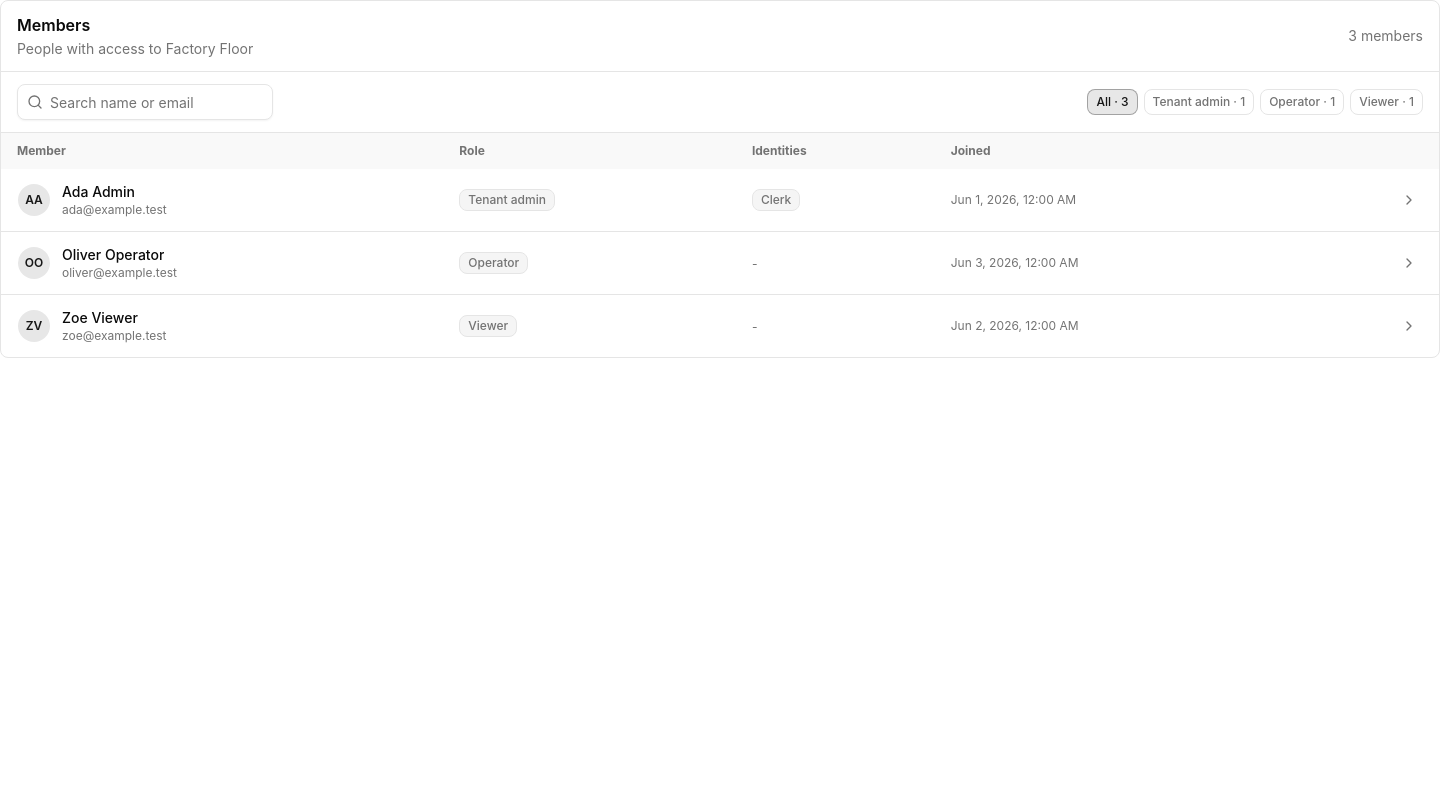
MembersSection › offers a confirmed remove action for ordinary members
The image size is (1440, 810).
Click the button named "Manage Oliver Operator" at (1409, 263), box [1395,249,1423,277]
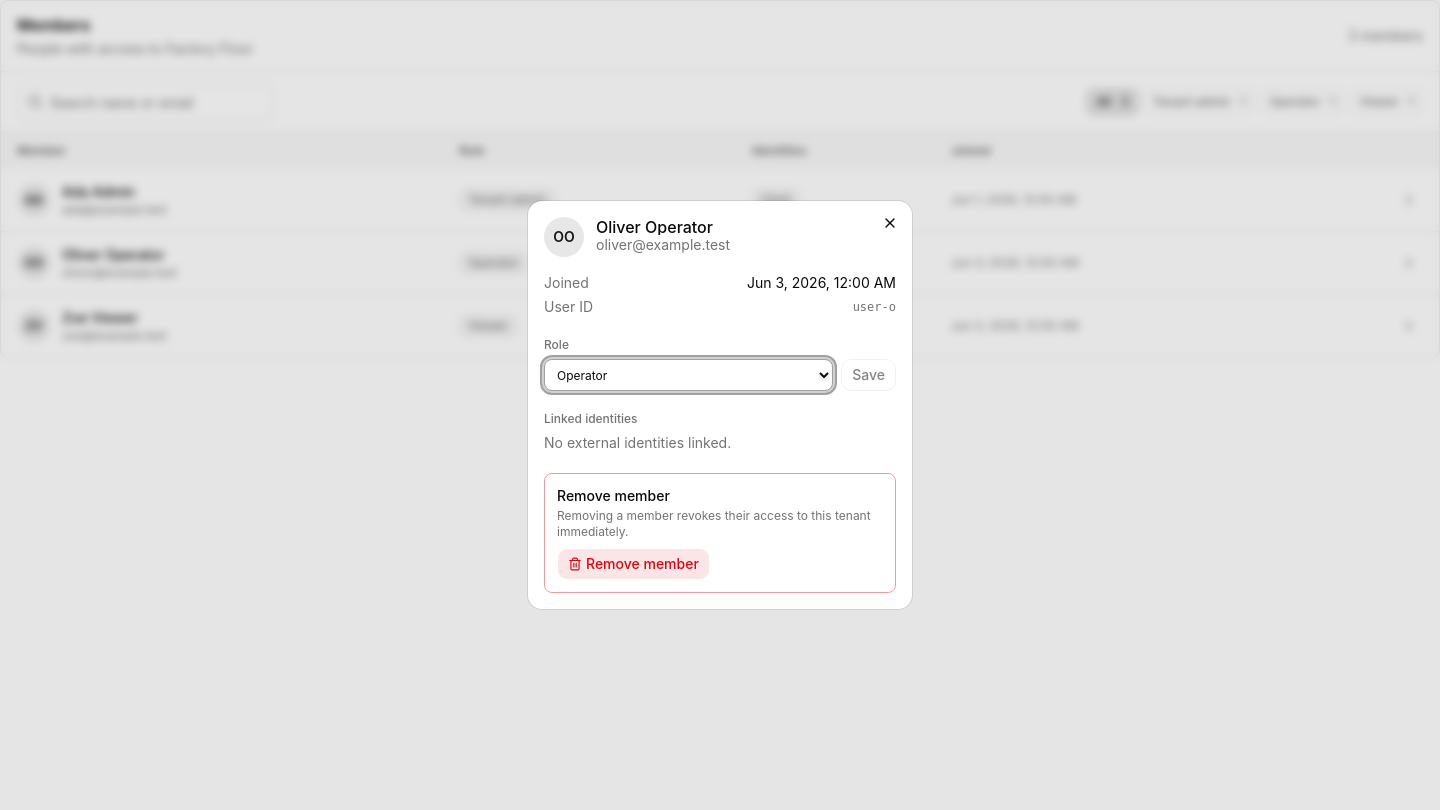
Expected: the button with aria-label "Remove Oliver Operator" is shown
Click the button with aria-label "Remove Oliver Operator" at (633, 564), box [557,548,710,580]
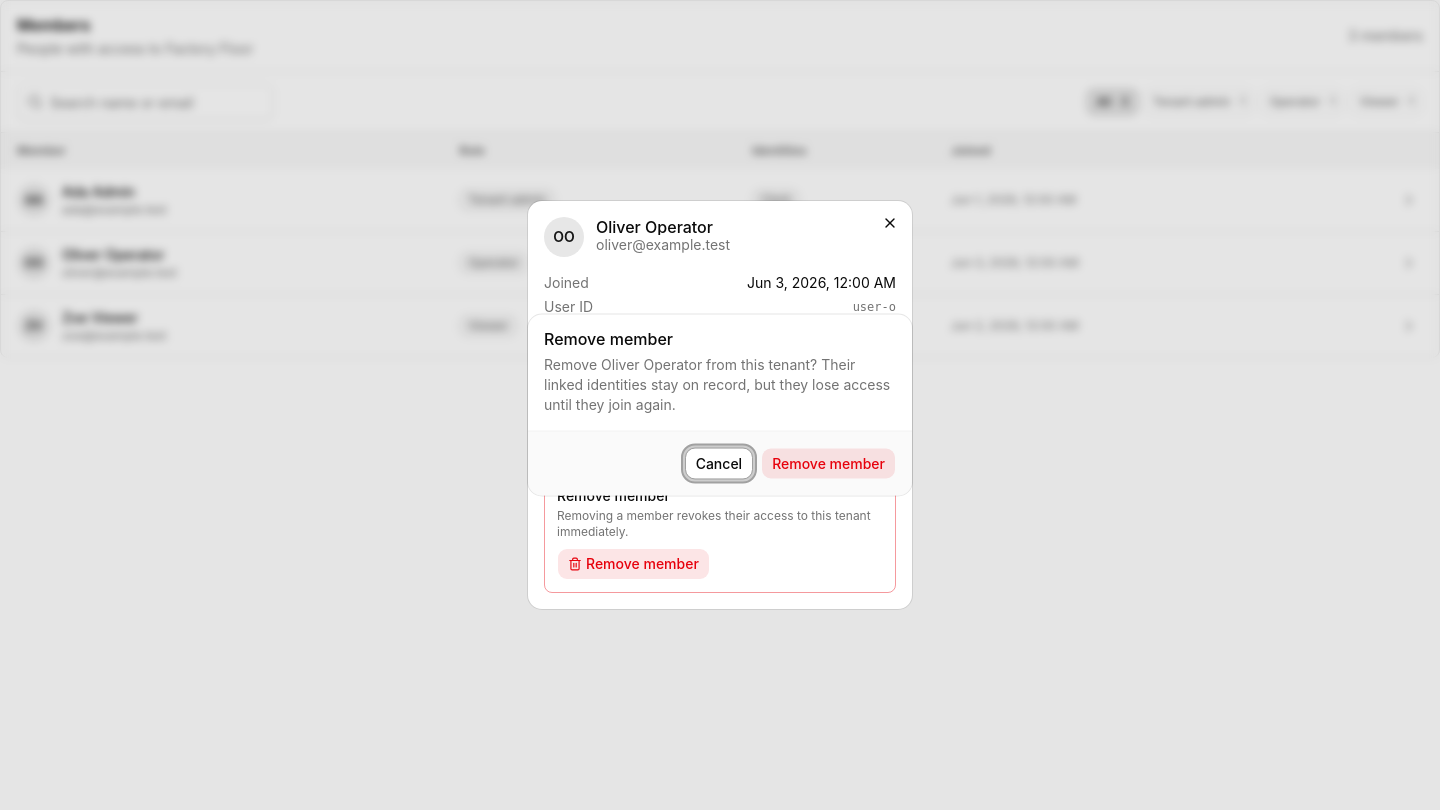
Expected: the text "Remove Oliver Operator from this tenant" is shown, [544,356,890,412]
